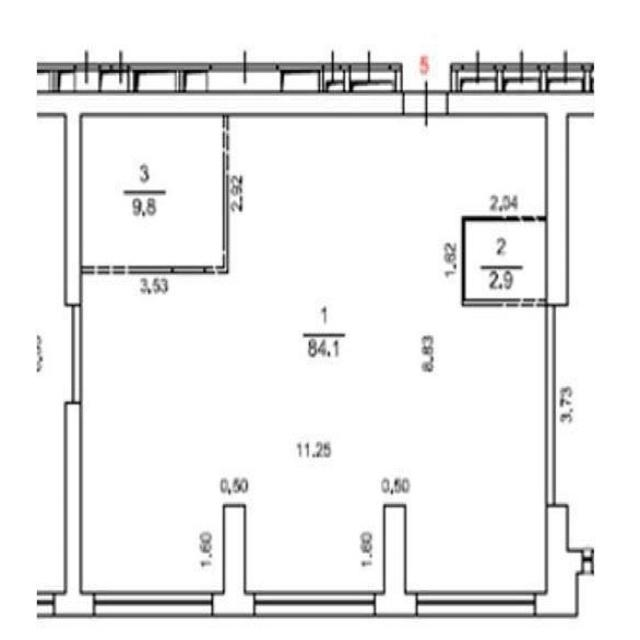Corridors: (466, 221, 545, 297)
Doors: (405, 80, 447, 129), (171, 266, 205, 275)
LBwalls: (447, 90, 597, 306), (36, 90, 403, 117), (55, 402, 93, 618), (537, 504, 580, 618), (213, 504, 254, 618), (375, 503, 415, 618), (63, 116, 82, 307)
Offices: (83, 117, 544, 590), (84, 119, 221, 264)
Walls: (462, 216, 545, 306), (205, 118, 229, 275), (544, 306, 556, 504), (72, 304, 82, 404), (82, 266, 171, 275)
Windows: (93, 591, 213, 618), (255, 591, 375, 618), (416, 590, 536, 617), (36, 591, 55, 617)
